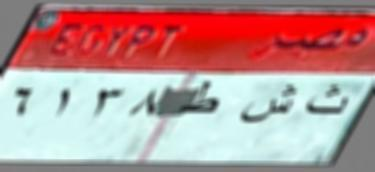1: (52, 84, 73, 120)
3: (88, 82, 122, 123)
6: (8, 81, 34, 123)
8: (130, 84, 158, 124)
Taa: (178, 76, 222, 120)
sheen: (240, 84, 300, 128)
thaa: (306, 80, 353, 124)
